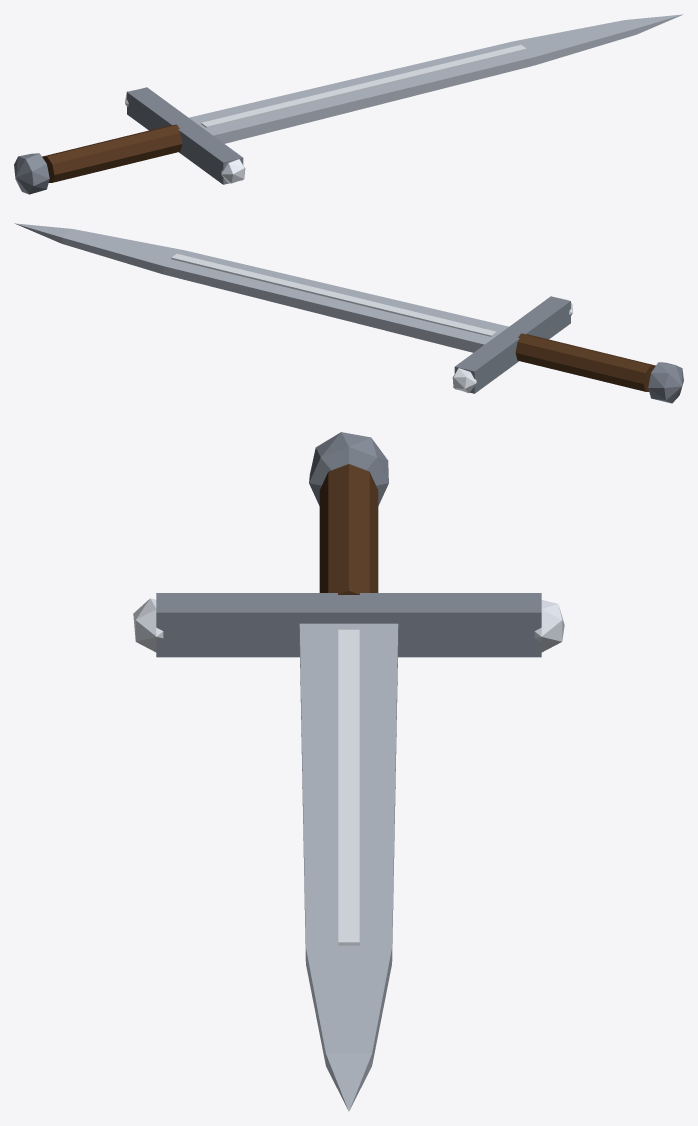
The model's file is drop_steel_longsword.glb.
3 renders of one model, top to bottom at view 1: azimuth 30°, elevation 25°; view 2: azimuth 150°, elevation 25°; view 3: azimuth 270°, elevation 25°, orthographic. The views are drawn at different scales.
Visible parts, largest first — view 1: drop_steel_longsword; view 2: drop_steel_longsword; view 3: drop_steel_longsword.
Part boxes in pixels (bbox=[...]): drop_steel_longsword: bbox=[14, 14, 683, 194]; drop_steel_longsword: bbox=[14, 223, 683, 403]; drop_steel_longsword: bbox=[133, 432, 564, 1111].
Size of the model in its own units: 0.8016 by 0.0416 by 0.2241.
